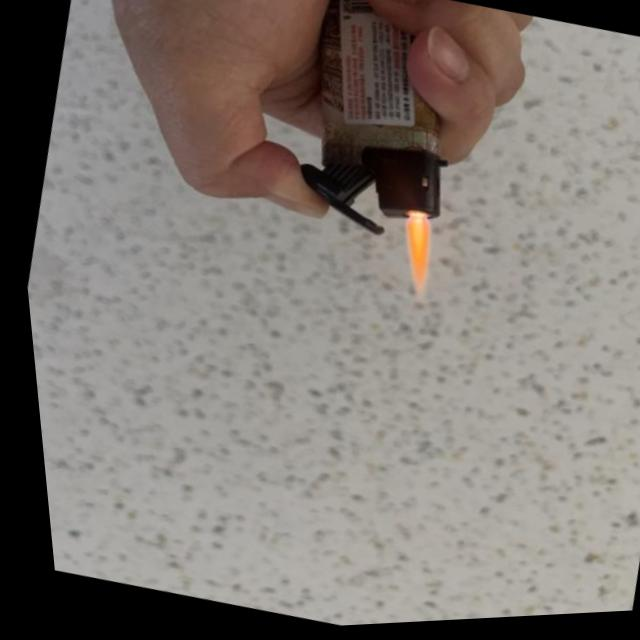Fire: (384, 218, 435, 295)
